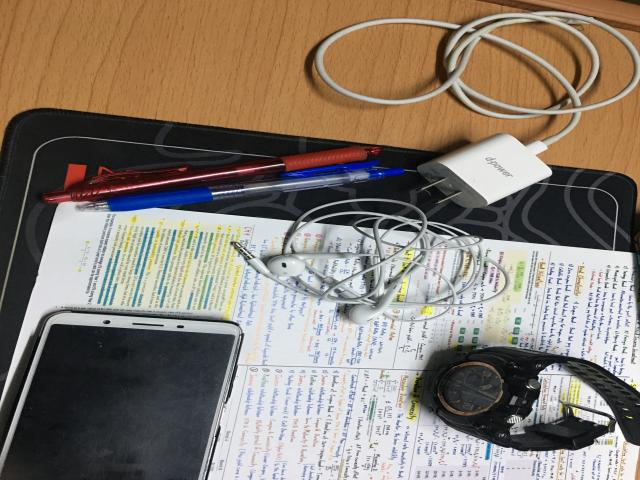Mobile phone: (2, 311, 243, 480)
Pen: (42, 145, 383, 203), (83, 168, 403, 212)
Watch: (430, 347, 640, 451)
paper: (0, 203, 638, 480)
wire: (315, 12, 638, 208), (233, 199, 512, 324)
